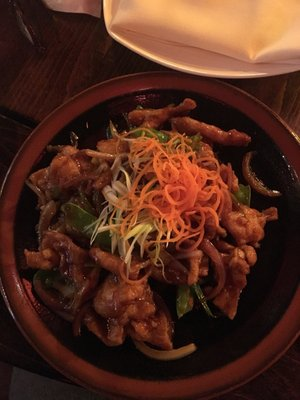sushi: (0, 66, 300, 397)
